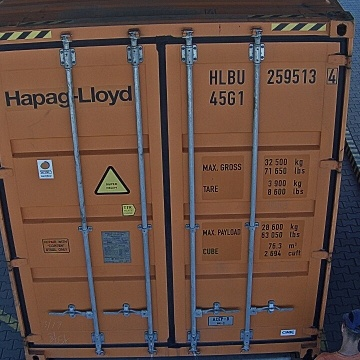serial_id: (209, 68, 337, 84)
